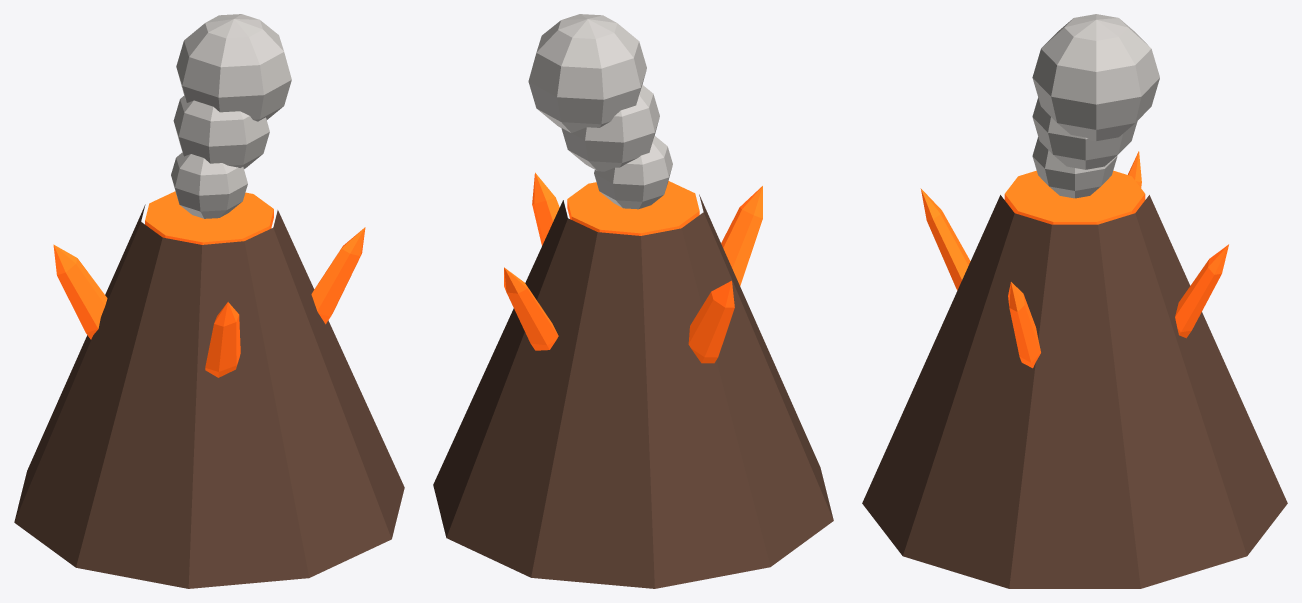
The model's file is float_volcano.glb.
3 renders of one model, left to right at view 1: azimuth 30°, elevation 25°; view 2: azimuth 150°, elevation 25°; view 3: azimuth 270°, elevation 25°, orthographic. The views are drawn at different scales.
Visible parts, largest first — view 1: mountain_volcano_rock, smoke_smoke (×3), lava_lava, mountain_lava; view 2: mountain_volcano_rock, smoke_smoke (×3), lava_lava, mountain_lava; view 3: mountain_volcano_rock, smoke_smoke (×3), lava_lava, mountain_lava.
Boxes of the visible parts, <box> form: mountain_volcano_rock: <box>14,204,404,588</box>; smoke_smoke (×3): <box>171,14,291,218</box>; lava_lava: <box>53,227,365,377</box>; mountain_lava: <box>145,191,273,244</box>; mountain_volcano_rock: <box>433,194,833,588</box>; smoke_smoke (×3): <box>528,14,672,209</box>; lava_lava: <box>504,172,762,363</box>; mountain_lava: <box>567,181,699,235</box>; mountain_volcano_rock: <box>862,195,1287,588</box>; smoke_smoke (×3): <box>1032,14,1159,198</box>; lava_lava: <box>920,151,1228,368</box>; mountain_lava: <box>1004,170,1145,224</box>.
Size of the model in its own units: 1.9 by 2.6 by 2.
